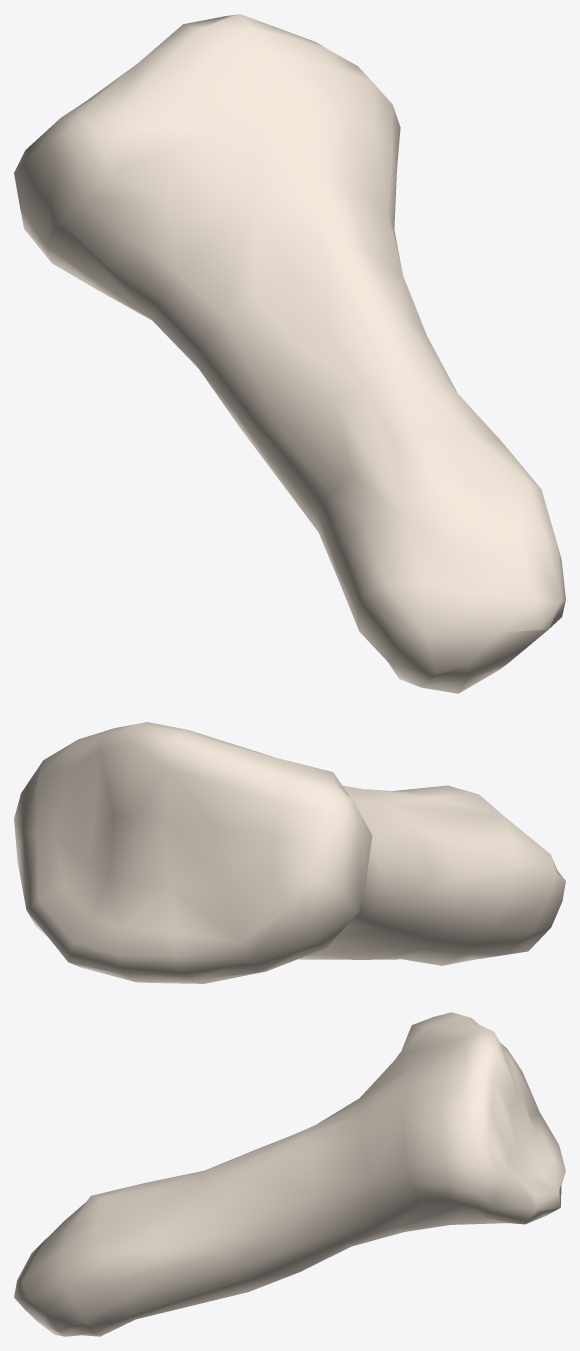
Rendered from right_digit_4_distal.glb.
The picture shows the model from 3 angles, top to bottom: view 1: azimuth 30°, elevation 25°; view 2: azimuth 150°, elevation 25°; view 3: azimuth 270°, elevation 25°; orthographic projection. The views are drawn at different scales.
Parts seen in each view (by area): view 1: Distal phalanx of 4th finger.r; view 2: Distal phalanx of 4th finger.r; view 3: Distal phalanx of 4th finger.r.
Boxes of the visible parts, box(x1,y1,x2,y2) form: Distal phalanx of 4th finger.r: box(14, 14, 565, 693); Distal phalanx of 4th finger.r: box(14, 722, 565, 983); Distal phalanx of 4th finger.r: box(14, 1012, 565, 1336).
Bounding box in the file's own units: 0.00823 × 0.00955 × 0.0154.
